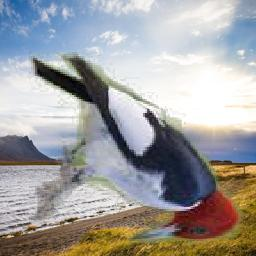Woodpecker: (21, 53, 248, 250)
